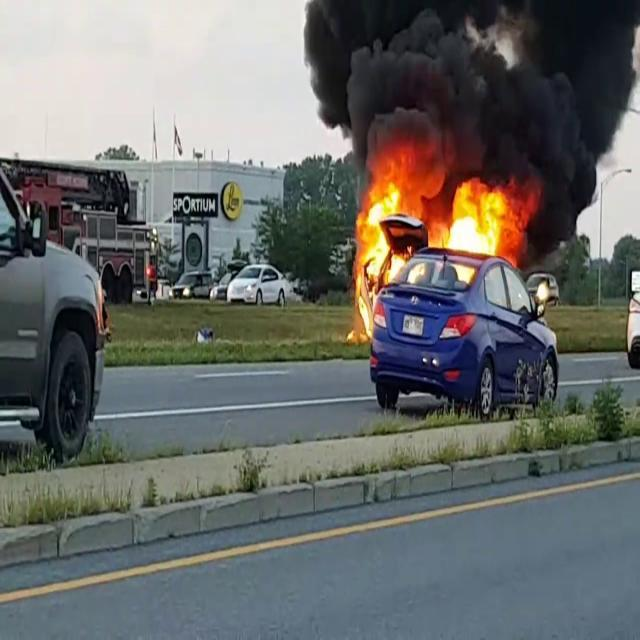Fire: (350, 138, 524, 330)
Smoke: (291, 0, 640, 215)
